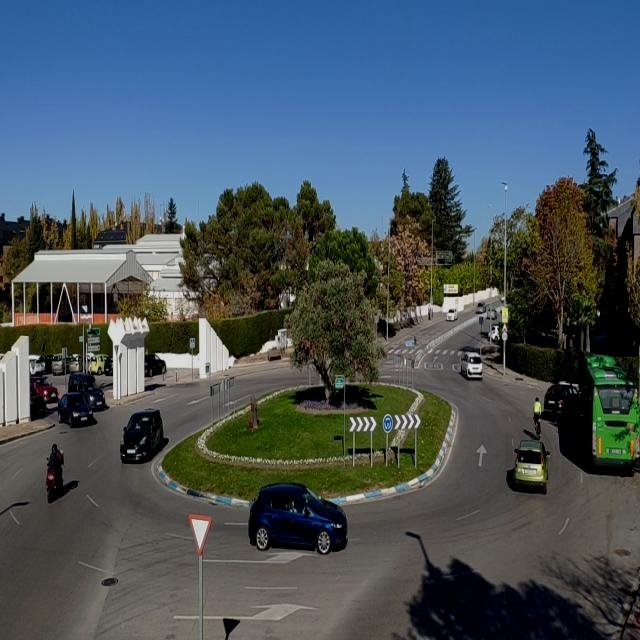Bus: (583, 346, 640, 478)
Car: (249, 483, 350, 555), (118, 407, 168, 464), (508, 439, 550, 490), (66, 369, 106, 413), (543, 382, 582, 423), (58, 393, 93, 428), (461, 353, 484, 381)
Cycle: (40, 442, 68, 506), (534, 397, 544, 436)
